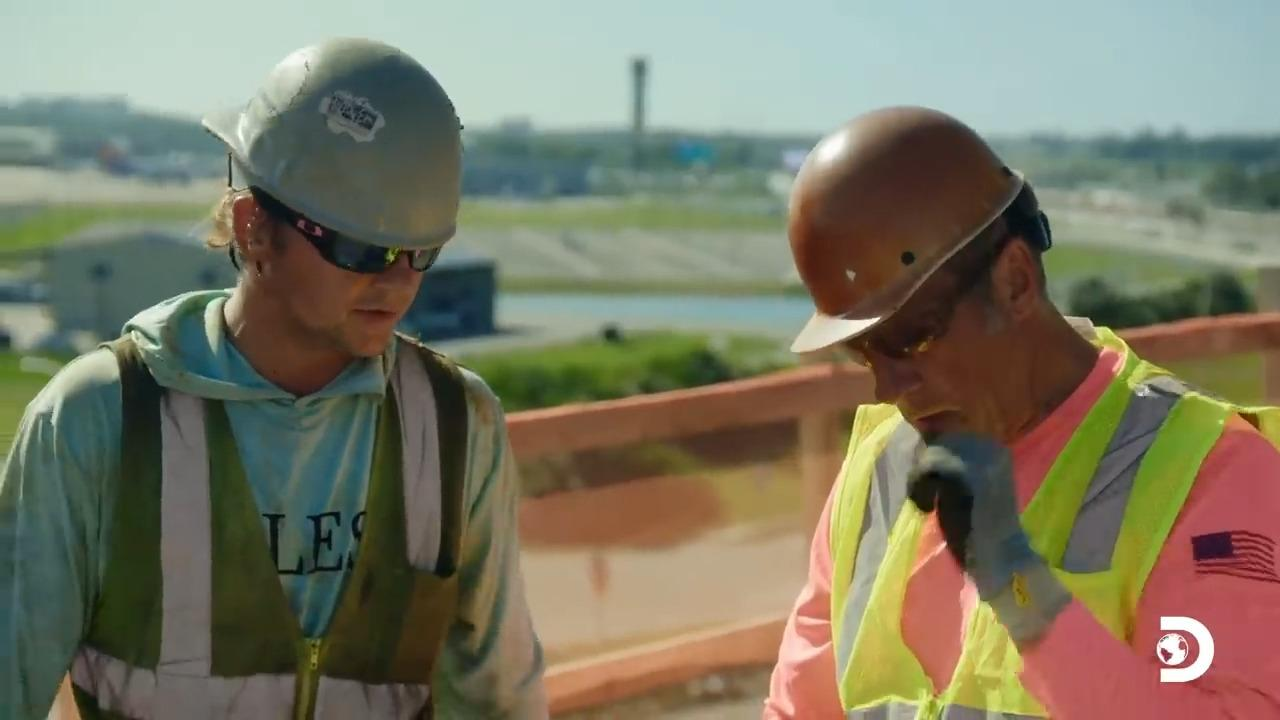Gloves: (912, 428, 1031, 571)
Helmet: (786, 104, 1028, 355), (200, 35, 464, 251)
Person: (0, 34, 552, 719), (761, 103, 1279, 719)
Safety Vest: (88, 343, 451, 715), (809, 410, 1175, 691)
